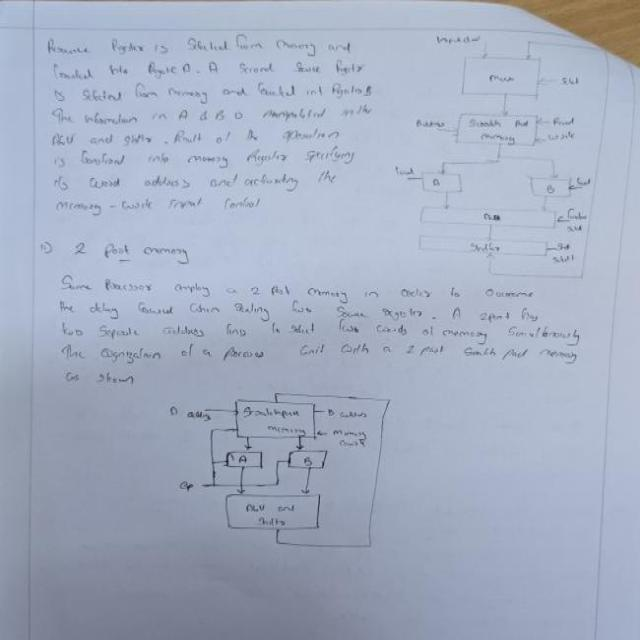Figure Detection - v3 Dataset Version2: (391, 31, 617, 292), (140, 368, 412, 564)
